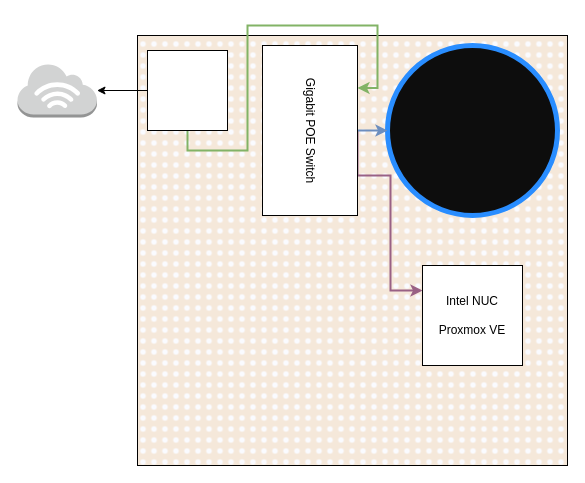
This 585x483 diagram has some shape labels left out. Each missing label, with the box of its shape:
ROUTER Raspberry Pi CM4 + Gigabit Breakout Board: (146, 50, 228, 130)
Ubiquity WAP: (384, 42, 560, 218)
